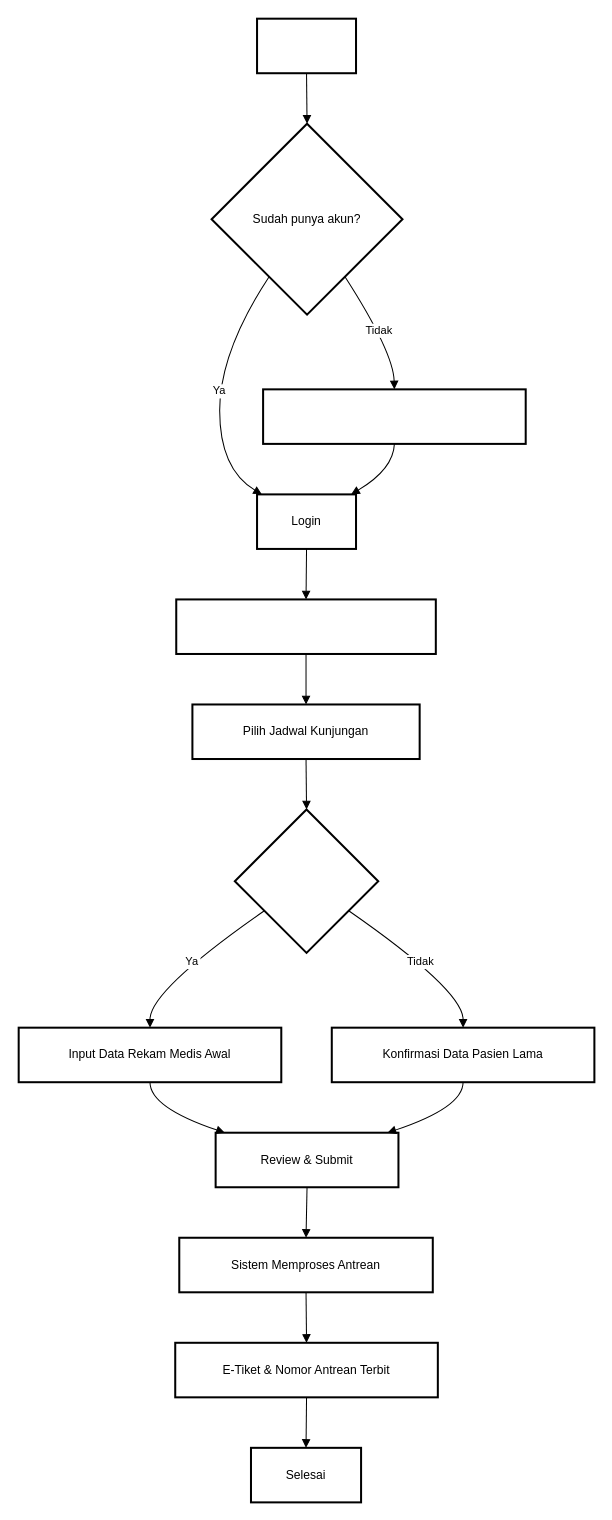
Image size: 612x1520. Some labels were removed from this diagram. Here are the shapes that lost their labels. From the top down, the box of each, then its label:
(256, 17, 357, 74): Mulai
(262, 388, 526, 444): Registrasi & Verifikasi Email
(175, 598, 436, 654): Pilih Layanan/Poli & Dokter
(233, 808, 379, 953): Pasien Baru?
